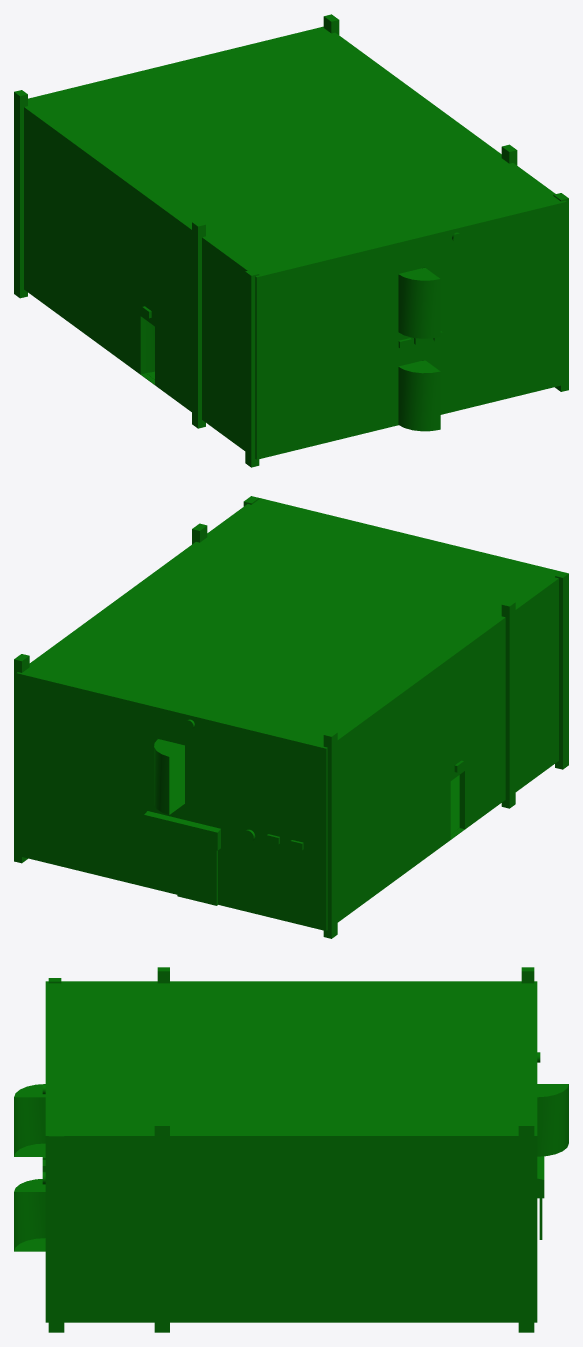
Rendered from Image-1711348097579-2280310210816_74-XX01.fbx.
The picture shows the model from 3 angles, top to bottom: view 1: azimuth 30°, elevation 25°; view 2: azimuth 150°, elevation 25°; view 3: azimuth 270°, elevation 25°; orthographic projection. The views are drawn at different scales.
Parts seen in each view (by area): view 1: PANEL 7 of EQUIPMENT /74-XX01, PANEL 3 of EQUIPMENT /74-XX01, PANEL 2 of EQUIPMENT /74-XX01, RTORUS 1 of EQUIPMENT /74-XX01, RTORUS 3 of EQUIPMENT /74-XX01, /N/E-POINT, /S/E-POINT, BOX 14 of EQUIPMENT /74-XX01, /N/W-POINT; view 2: PANEL 7 of EQUIPMENT /74-XX01, PANEL 4 of EQUIPMENT /74-XX01, PANEL 2 of EQUIPMENT /74-XX01, /S/E-POINT, BOX 14 of EQUIPMENT /74-XX01, PANEL 5 of EQUIPMENT /74-XX01, /N/E-POINT, PANEL 6 of EQUIPMENT /74-XX01, RTORUS 4 of EQUIPMENT /74-XX01, /S/W-POINT; view 3: PANEL 7 of EQUIPMENT /74-XX01, PANEL 1 of EQUIPMENT /74-XX01, /S/W-POINT, /N/W-POINT, BOX 12 of EQUIPMENT /74-XX01, RTORUS 4 of EQUIPMENT /74-XX01, RTORUS 1 of EQUIPMENT /74-XX01, RTORUS 3 of EQUIPMENT /74-XX01.
Boxes of the visible parts, box(x1,y1,x2,y2) form: PANEL 7 of EQUIPMENT /74-XX01: box(24, 27, 566, 459); PANEL 3 of EQUIPMENT /74-XX01: box(256, 202, 566, 293); PANEL 2 of EQUIPMENT /74-XX01: box(24, 107, 268, 293); RTORUS 1 of EQUIPMENT /74-XX01: box(398, 360, 440, 431); RTORUS 3 of EQUIPMENT /74-XX01: box(398, 268, 440, 338); /N/E-POINT: box(245, 269, 259, 467); /S/E-POINT: box(14, 90, 27, 298); BOX 14 of EQUIPMENT /74-XX01: box(192, 220, 205, 428); /N/W-POINT: box(553, 193, 568, 391); PANEL 7 of EQUIPMENT /74-XX01: box(16, 498, 560, 930); PANEL 4 of EQUIPMENT /74-XX01: box(16, 673, 325, 764); PANEL 2 of EQUIPMENT /74-XX01: box(314, 579, 558, 765); /S/E-POINT: box(323, 730, 337, 938); BOX 14 of EQUIPMENT /74-XX01: box(501, 600, 515, 808); PANEL 5 of EQUIPMENT /74-XX01: box(177, 841, 217, 905); /N/E-POINT: box(555, 571, 568, 769); PANEL 6 of EQUIPMENT /74-XX01: box(144, 811, 220, 850); RTORUS 4 of EQUIPMENT /74-XX01: box(154, 739, 184, 814); /S/W-POINT: box(14, 654, 29, 863); PANEL 7 of EQUIPMENT /74-XX01: box(45, 981, 537, 1322); PANEL 1 of EQUIPMENT /74-XX01: box(45, 1135, 537, 1152); /S/W-POINT: box(518, 1122, 534, 1332); /N/W-POINT: box(48, 1132, 64, 1332); BOX 12 of EQUIPMENT /74-XX01: box(154, 1122, 169, 1332); RTORUS 4 of EQUIPMENT /74-XX01: box(537, 1084, 568, 1156); RTORUS 1 of EQUIPMENT /74-XX01: box(14, 1179, 45, 1251); RTORUS 3 of EQUIPMENT /74-XX01: box(14, 1084, 45, 1156).
Size of the model in its own units: 12.06 by 17.84 by 7.38.
